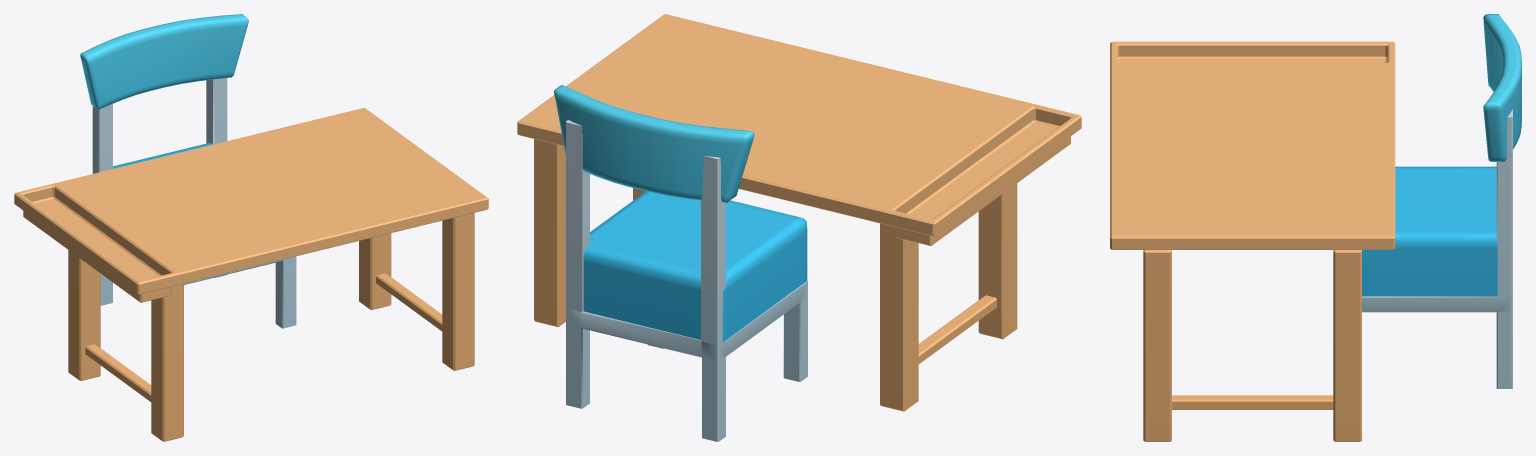
The model's file is Desk.fbx.
3 views of the same model, side by side, from view 1: azimuth 30°, elevation 25°; view 2: azimuth 150°, elevation 25°; view 3: azimuth 270°, elevation 25° (orthographic). The views are drawn at different scales.
Parts seen in each view (by area): view 1: Desk; view 2: Desk; view 3: Desk.
Part boxes in pixels (x1,y1,x2,y2): Desk: (14, 14, 488, 441); Desk: (517, 14, 1081, 441); Desk: (1110, 14, 1521, 441).
Size of the model in its own units: 17.68 by 12.42 by 15.67.
Materials: 1 (1 with a texture image).
